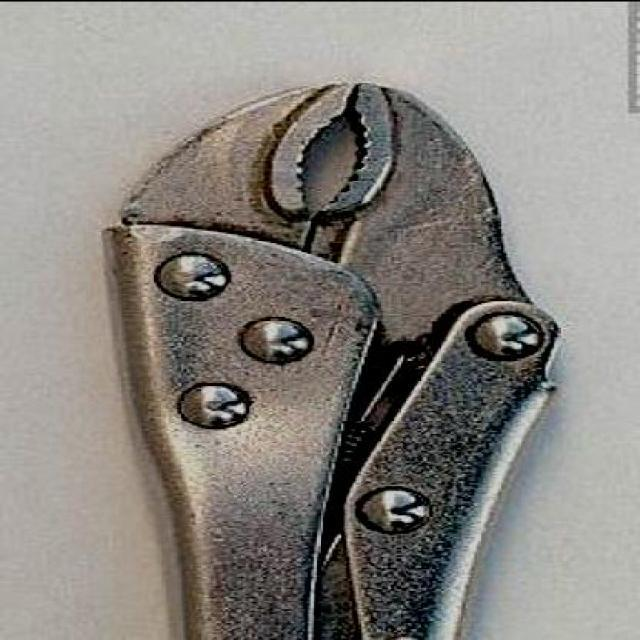pliers: (100, 79, 569, 638)
